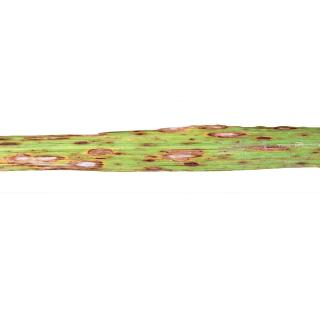Blast: (65, 148, 120, 173), (154, 144, 203, 170), (10, 150, 62, 170), (204, 131, 251, 146), (155, 122, 202, 135)
